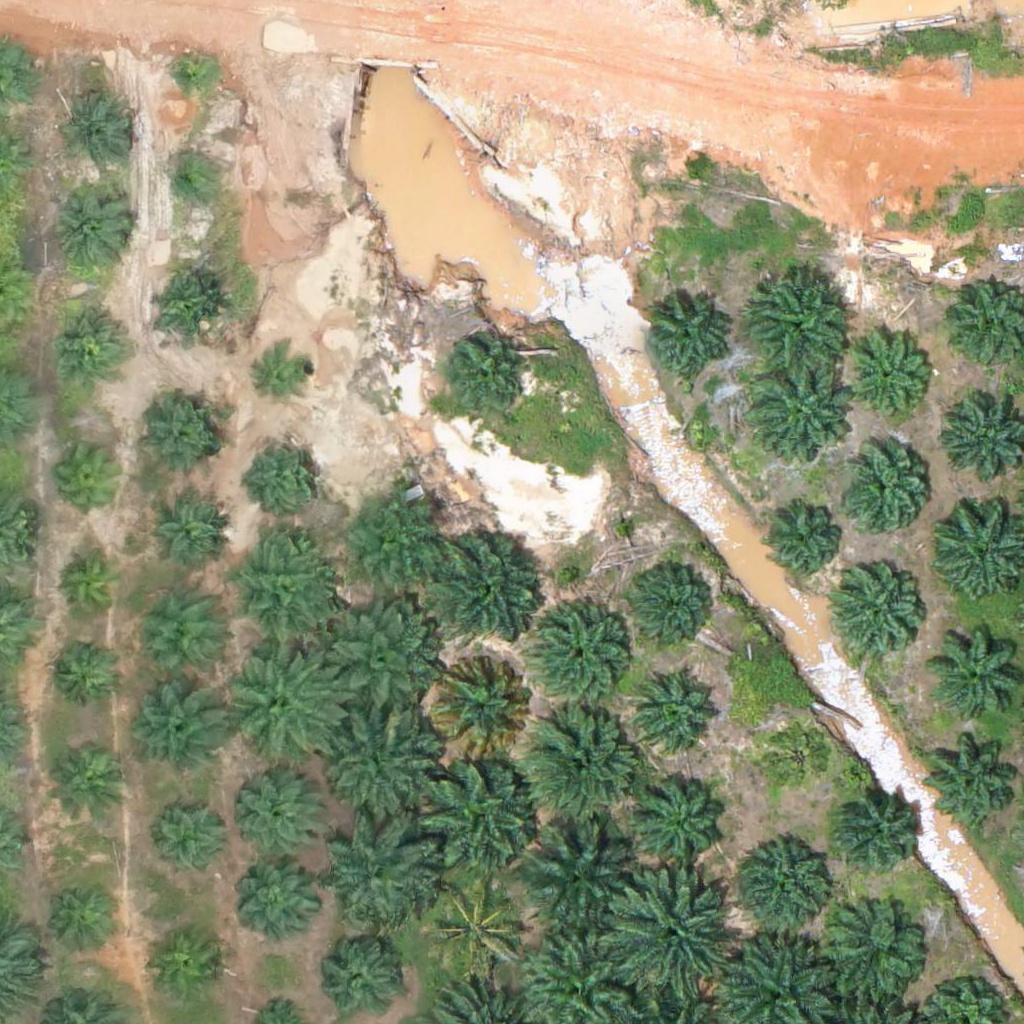Kelapa_Sawit: (220, 636, 345, 762), (423, 521, 548, 647), (417, 755, 542, 881), (320, 702, 445, 828), (317, 808, 442, 934), (519, 697, 644, 823), (603, 871, 728, 997), (312, 601, 437, 726), (518, 813, 643, 938), (418, 869, 531, 983), (425, 650, 538, 763), (815, 903, 928, 1016), (337, 484, 449, 598), (526, 600, 638, 714), (227, 536, 339, 649), (234, 761, 334, 862), (752, 363, 852, 464), (748, 270, 848, 371), (627, 765, 727, 866), (730, 840, 830, 941), (126, 592, 226, 692), (140, 397, 228, 485), (232, 855, 320, 943), (844, 335, 932, 423), (841, 448, 929, 536), (833, 571, 921, 659), (643, 295, 731, 383), (832, 782, 919, 871), (144, 494, 231, 582), (442, 336, 529, 424), (761, 495, 848, 583), (135, 682, 222, 770), (312, 935, 399, 1023), (635, 665, 722, 753), (630, 560, 717, 648), (57, 91, 132, 167), (148, 272, 223, 348), (51, 747, 126, 823), (46, 636, 121, 712), (52, 548, 127, 624), (250, 435, 325, 511), (57, 188, 132, 264), (761, 718, 836, 794), (49, 306, 124, 381), (55, 439, 130, 514), (48, 883, 123, 958), (148, 923, 223, 998), (157, 803, 232, 878), (255, 344, 317, 407), (167, 52, 217, 102), (163, 159, 213, 209)
